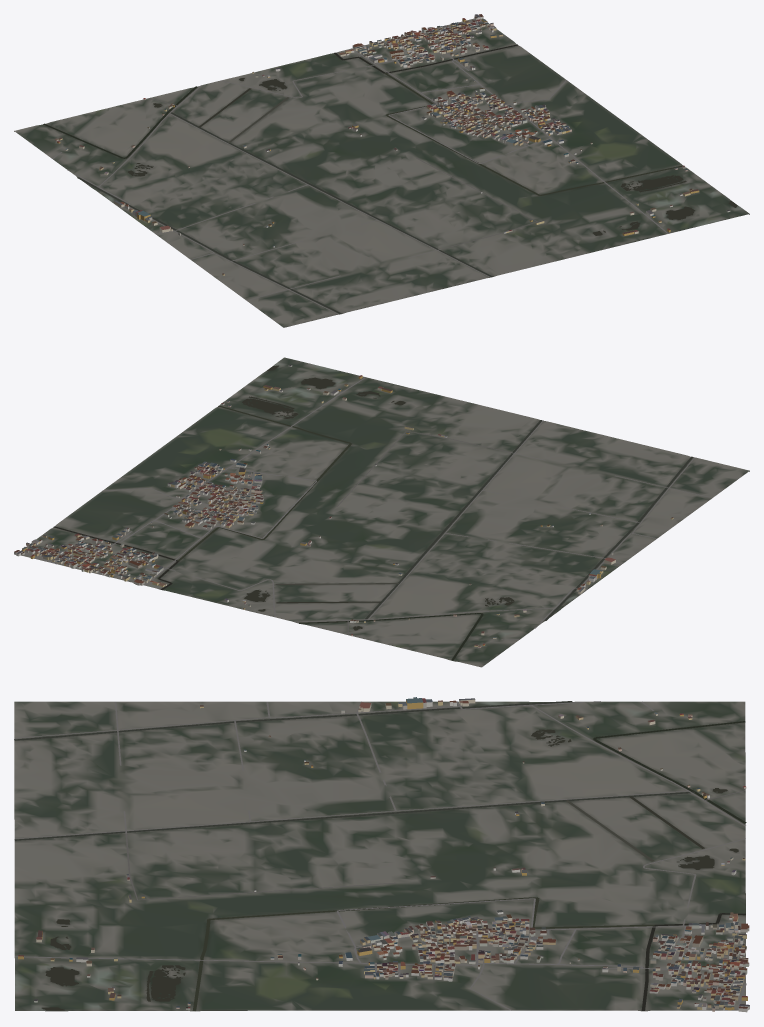
The picture shows the model from 3 angles, top to bottom: view 1: azimuth 30°, elevation 25°; view 2: azimuth 150°, elevation 25°; view 3: azimuth 270°, elevation 25°; orthographic projection. The views are drawn at different scales.
Visible parts, largest first — view 1: ground, buildings, water, roads; view 2: ground, buildings, water, roads; view 3: ground, buildings, water, roads.
Part boxes in pixels (box(x1,y1,x2,y2)): ground: box(14, 18, 749, 327); buildings: box(54, 14, 730, 275); water: box(43, 44, 737, 314); roads: box(52, 19, 668, 314); ground: box(21, 357, 749, 667); buildings: box(14, 364, 673, 647); water: box(53, 365, 693, 660); roads: box(25, 377, 712, 639); ground: box(14, 701, 745, 1011); buildings: box(18, 697, 749, 1012); water: box(14, 701, 746, 1011); roads: box(14, 701, 746, 1010).
Bounding box in the file's own units: 1410 × 17.5 × 1411.
